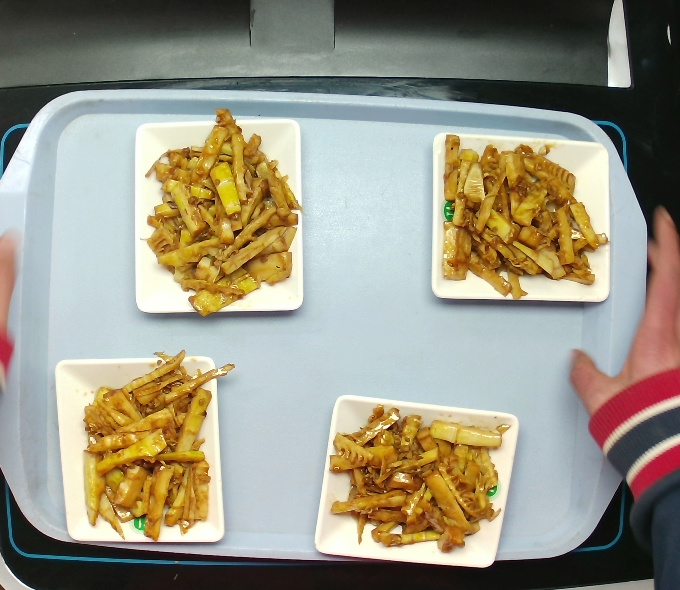wcq-QingChaoChunSun: (140, 108, 303, 319), (73, 349, 234, 541), (332, 408, 498, 552), (437, 147, 600, 289)
